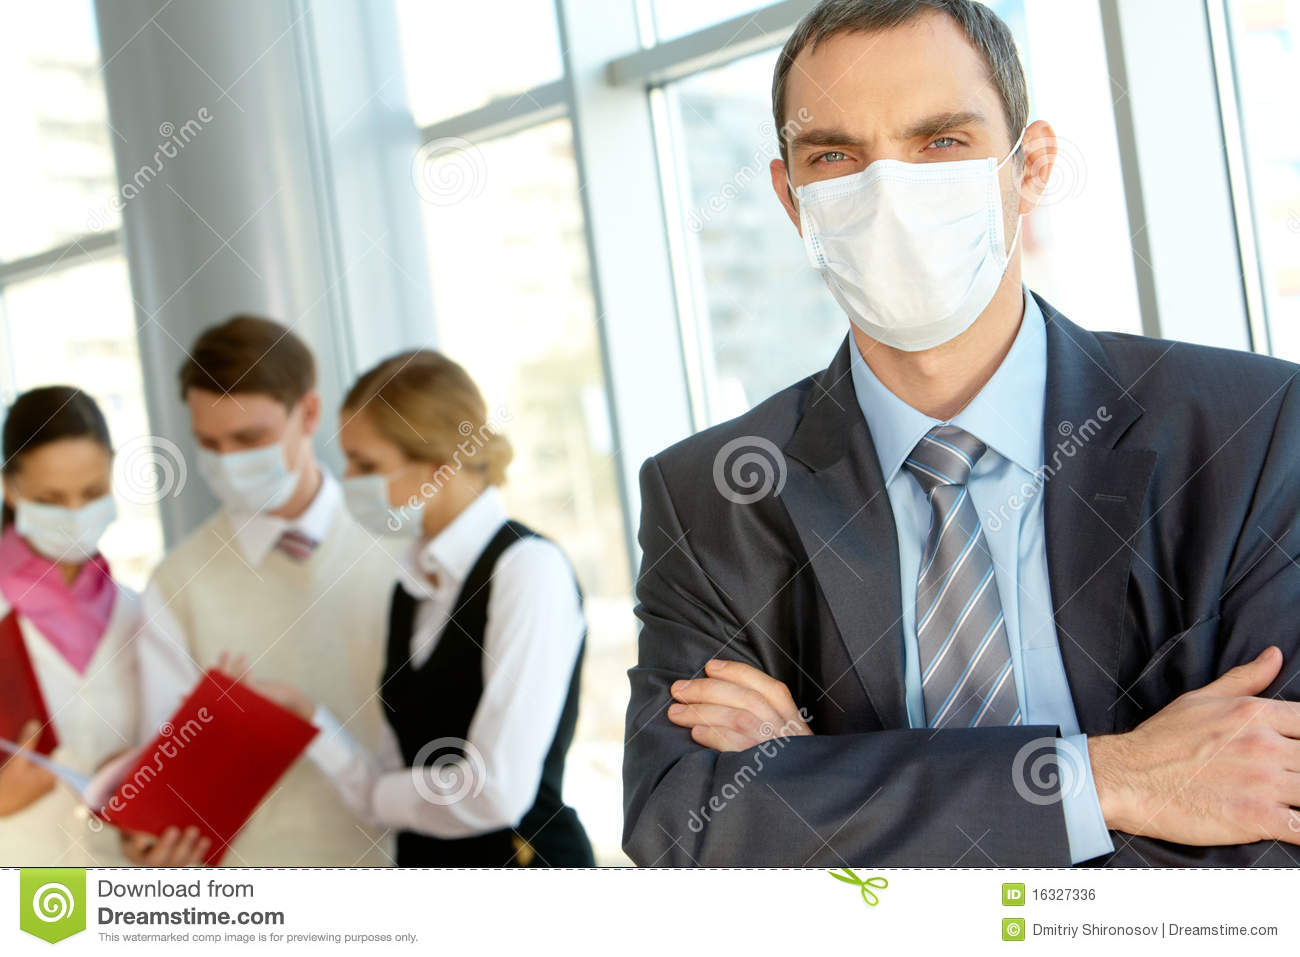mask: (798, 159, 1007, 352)
